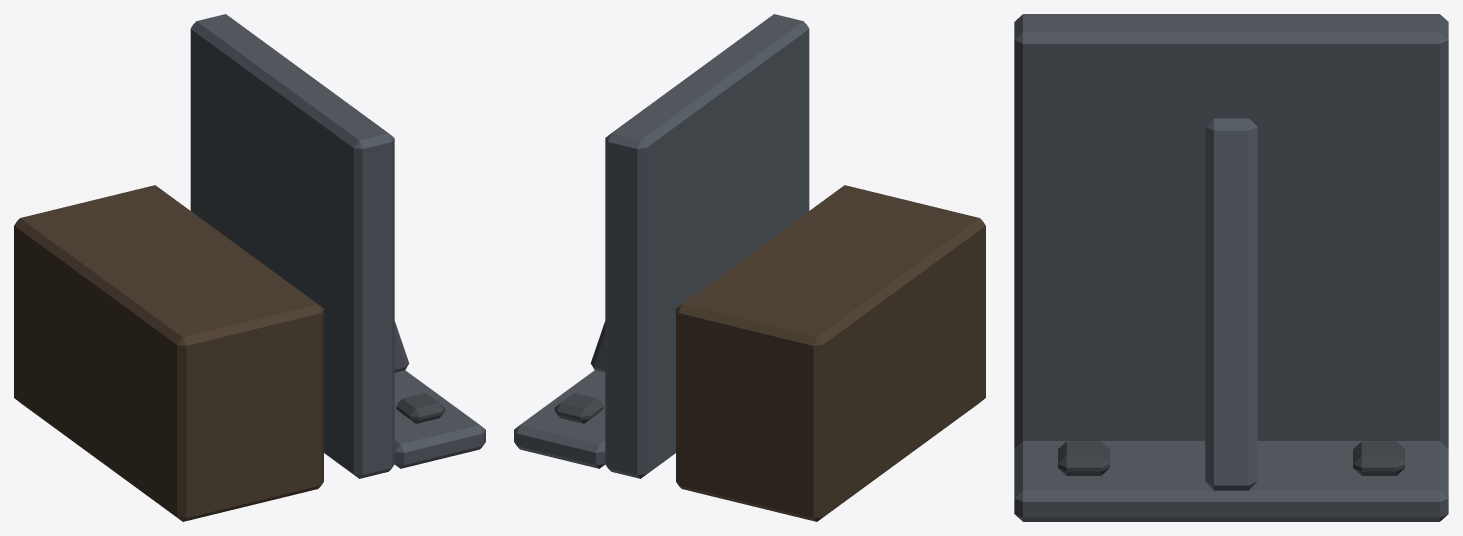
Rendered from peg.glb.
3 renders of one model, left to right at view 1: azimuth 30°, elevation 25°; view 2: azimuth 150°, elevation 25°; view 3: azimuth 270°, elevation 25°, orthographic. The views are drawn at different scales.
Parts seen in each view (by area): view 1: peg; view 2: peg; view 3: peg.
Boxes of the visible parts, <box> form: peg: <box>14,14,485,521</box>; peg: <box>514,14,985,521</box>; peg: <box>1014,14,1448,521</box>.
Bounding box in the file's own units: 0.105 × 0.11 × 0.1.
